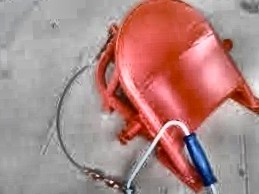chock: (90, 0, 259, 194)
